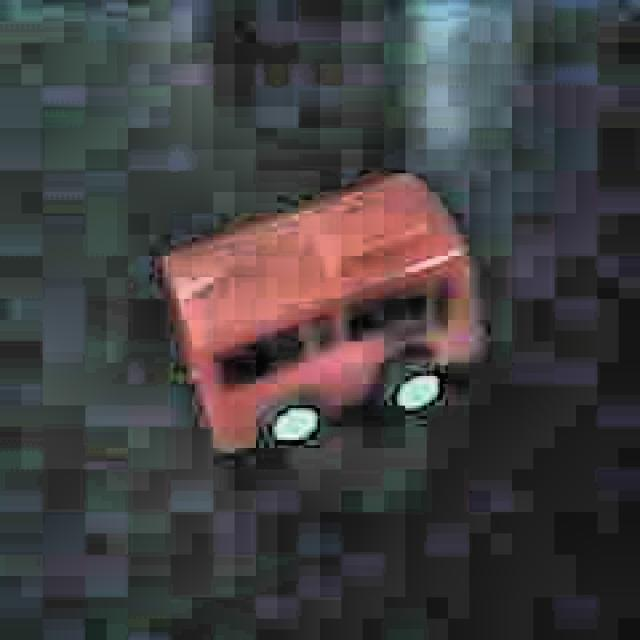bus: (154, 162, 490, 466)
